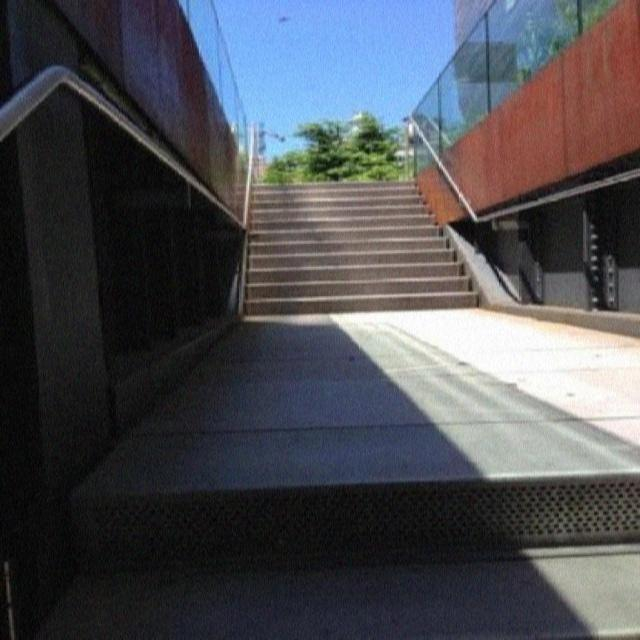stair: (237, 174, 486, 318)
